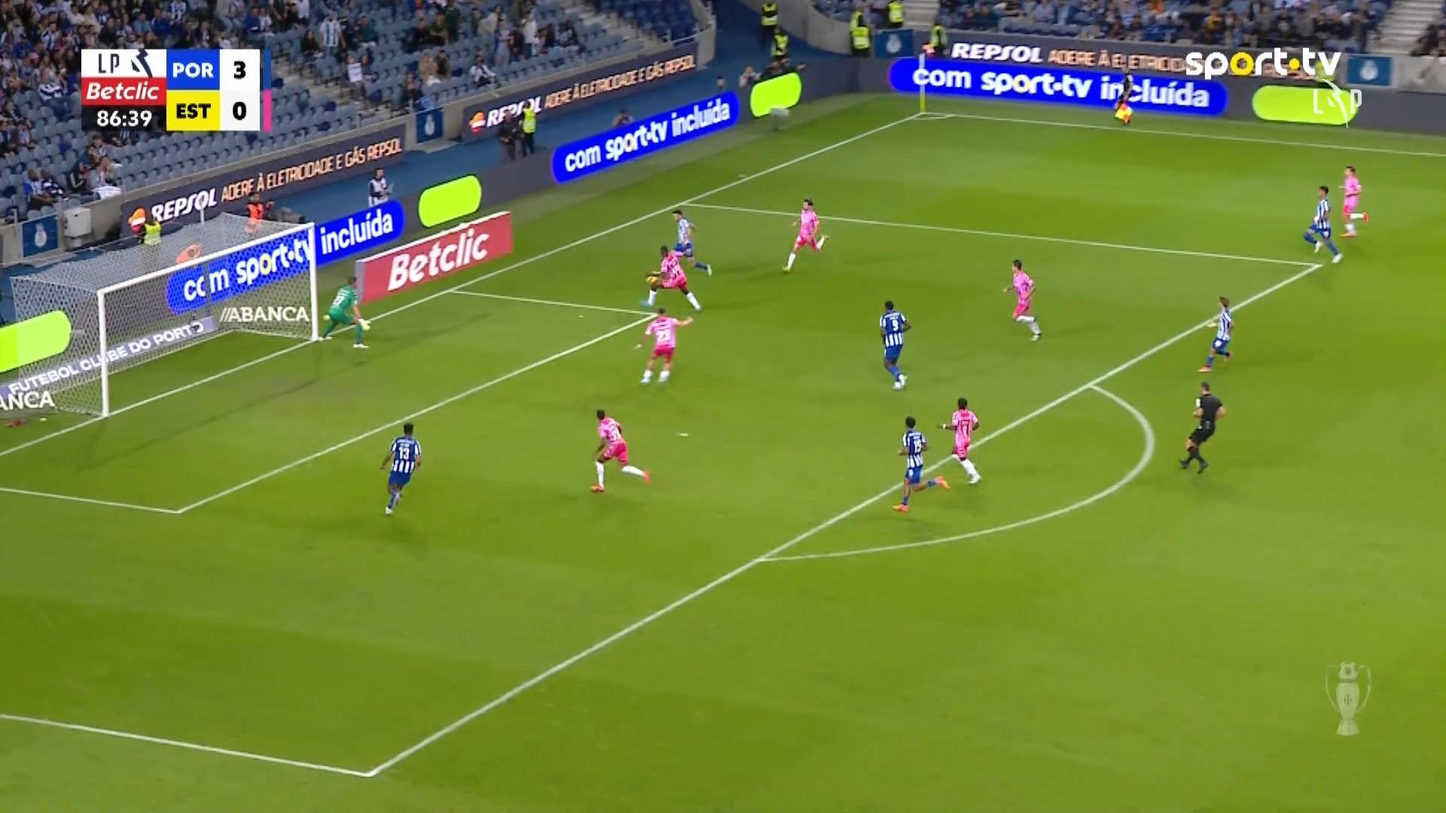ball: (645, 276, 660, 288)
goalkeeper: (320, 274, 371, 349)
player: (891, 416, 949, 512), (590, 407, 650, 492), (633, 306, 694, 384), (378, 421, 423, 516), (641, 245, 702, 311), (938, 397, 982, 484), (781, 197, 828, 273), (1002, 257, 1042, 341), (1302, 184, 1342, 263), (1195, 294, 1234, 373), (878, 299, 911, 390), (670, 208, 712, 276), (1338, 164, 1369, 237)
referee: (1178, 381, 1226, 473), (1112, 72, 1138, 125)
